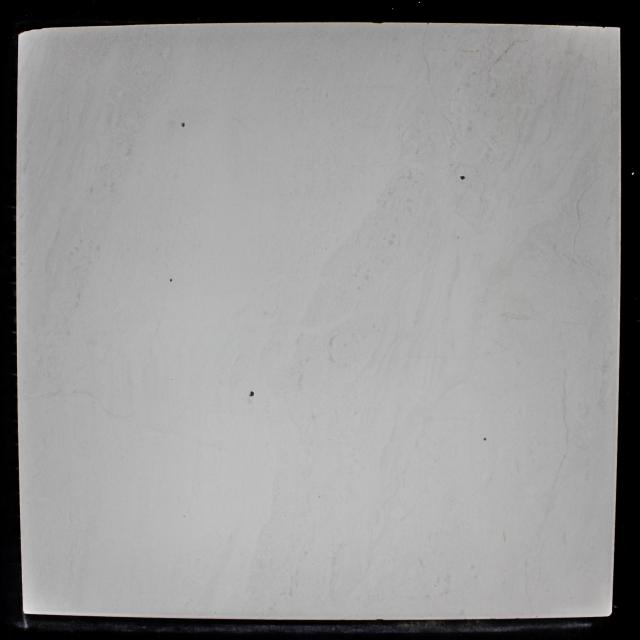edge-chipping: (18, 29, 33, 35)
hole: (249, 390, 255, 398), (180, 122, 186, 128), (460, 175, 466, 180), (169, 278, 173, 282), (483, 437, 487, 441)
